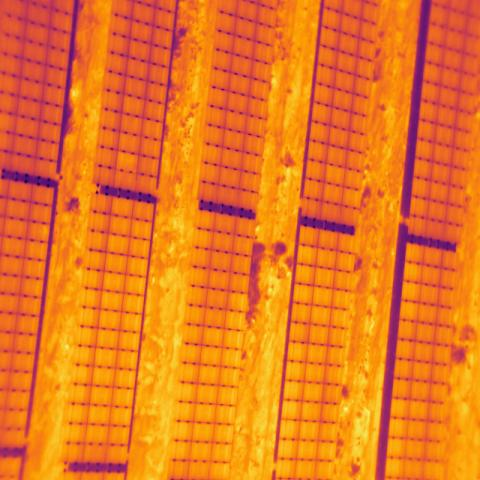fault: (117, 151, 138, 174)
